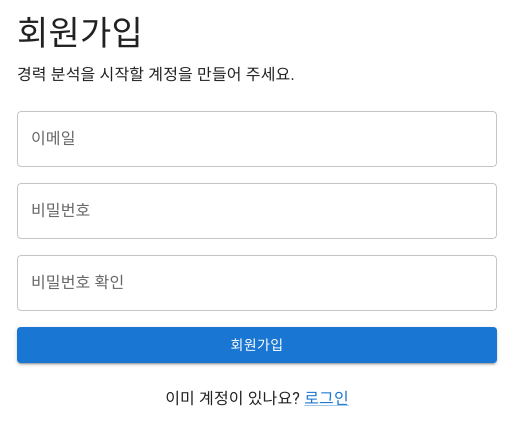
Test: 회원가입 화면 › 비밀번호 확인이 다르면 가입 요청을 보내지 않는다
The image size is (515, 446).
Type "user@example.com" into the field labelled "이메일" at (257, 139), box [17,111,497,167]
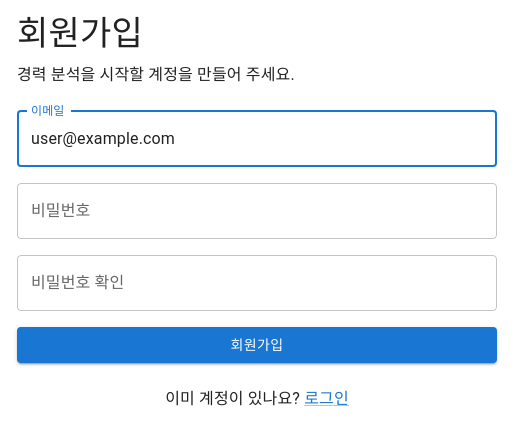
Type "password" into the password field labelled "비밀번호" at (257, 211), box [17,183,497,239]
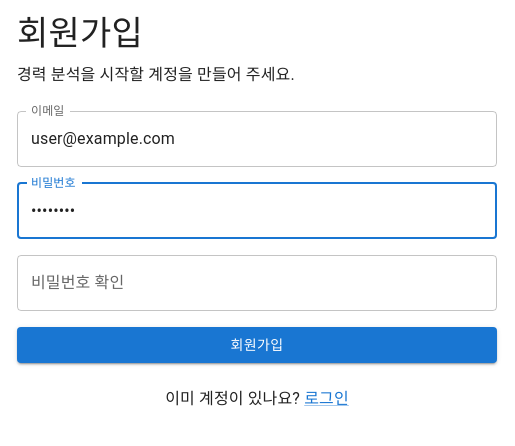
Type "different" into the password field labelled "비밀번호 확인" at (257, 283), box [17,255,497,311]
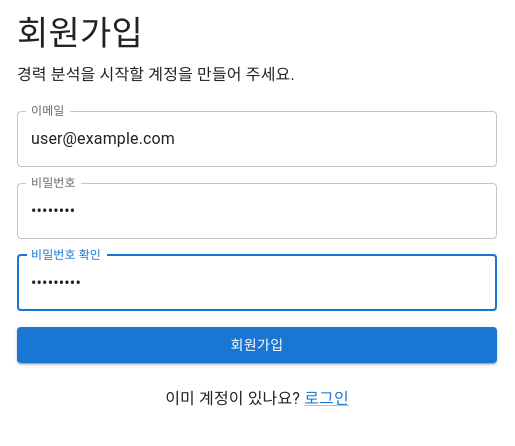
Click the button "회원가입" at (257, 345), box [17,327,497,364]
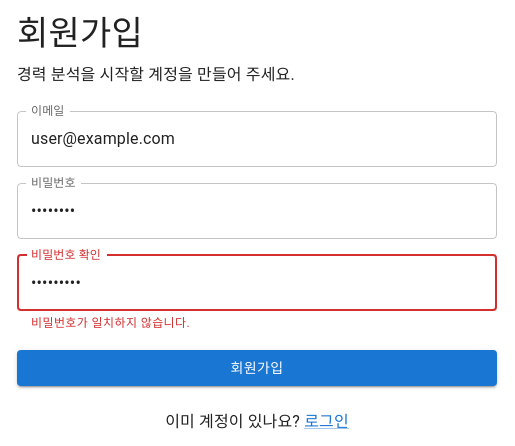
Result: the text "비밀번호가 일치하지 않습니다." is shown at [31,316,190,330]
